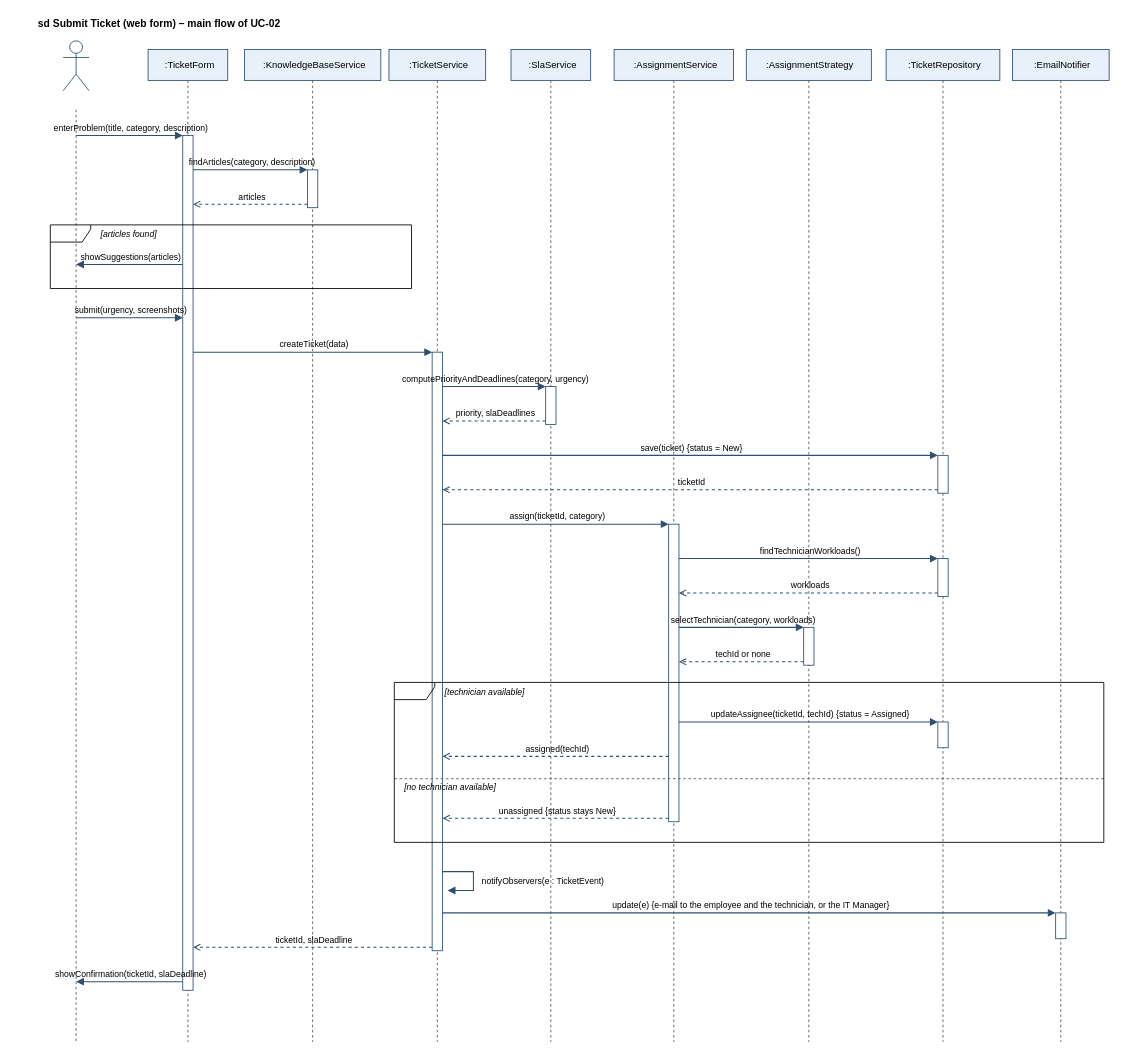
The diagram is 1124 pixels wide and 1058 high, and some of its shapes have lost their labels. Each missing label, with the box of its shape:
alt: (393, 682, 1104, 842)
Employee: (62, 40, 89, 91)
opt: (49, 224, 412, 289)
